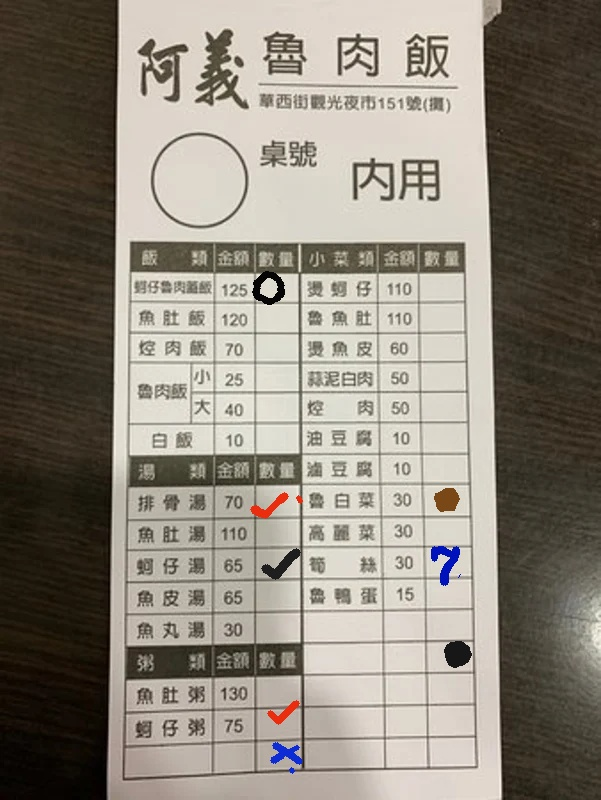marked_circle: (426, 486, 469, 514), (428, 642, 471, 670)
marked_hollow: (256, 273, 299, 301)
marked_number_7: (427, 549, 470, 577)
marked_tick: (258, 550, 301, 578), (257, 487, 300, 515), (256, 709, 299, 737)
marked_x: (259, 741, 302, 769)
